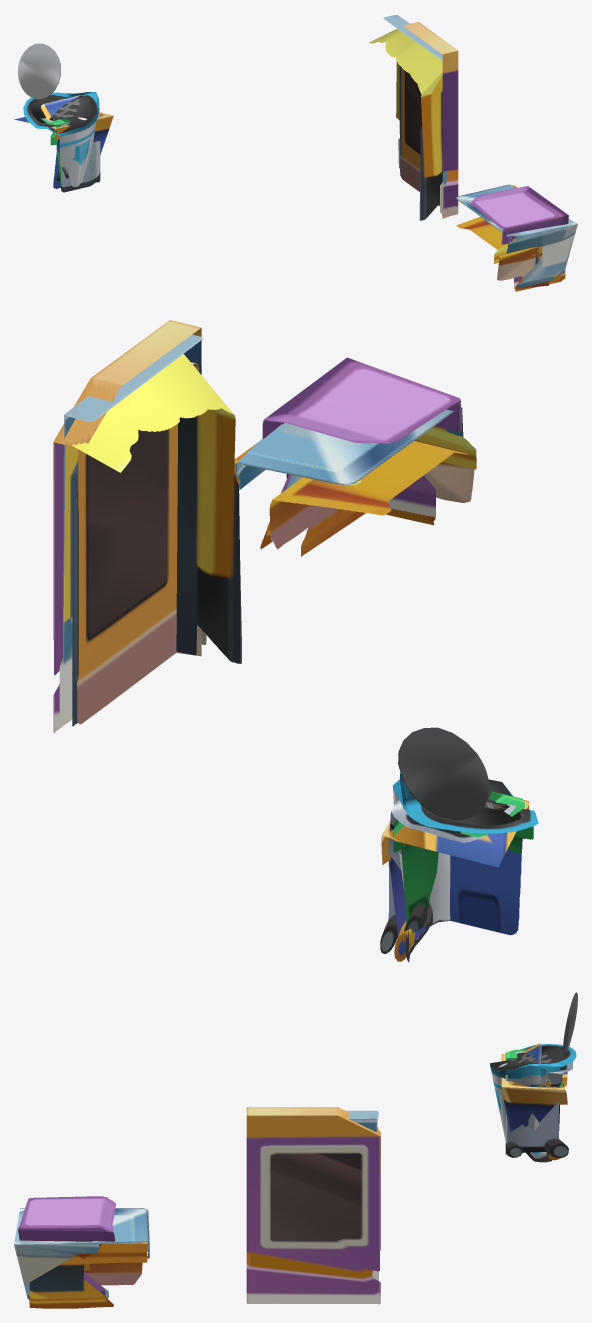
File: lajitong-ludeng2.fbx
The picture shows the model from 3 angles, top to bottom: view 1: azimuth 30°, elevation 25°; view 2: azimuth 150°, elevation 25°; view 3: azimuth 270°, elevation 25°; orthographic projection. The views are drawn at different scales.
Visible parts, largest first — view 1: decoration_20024, decoration_20021, facility_20094_opeen, decoration_20022, decoration_200231, decoration_200232, facility_20094, facility_20091, facility_20093; view 2: decoration_20021, decoration_20024, decoration_200232, decoration_20022, facility_20094_opeen, facility_20091, decoration_200231, facility_20092, facility_20093; view 3: decoration_200231, decoration_200232, decoration_20022, decoration_20024, facility_20091, facility_20094_opeen, facility_20093, decoration_20021, facility_20094.
Boxes of the visible parts, x1,y1,x2,y2 form: decoration_20024: (368, 29, 565, 291); decoration_20021: (400, 67, 549, 289); facility_20094_opeen: (18, 43, 99, 183); decoration_20022: (383, 14, 577, 288); decoration_200231: (400, 22, 458, 217); decoration_200232: (471, 186, 568, 287); facility_20094: (36, 93, 99, 187); facility_20091: (14, 95, 113, 188); facility_20093: (43, 112, 100, 192); decoration_20021: (77, 362, 474, 724); decoration_20024: (63, 354, 476, 726); decoration_200232: (262, 357, 461, 541); decoration_20022: (59, 334, 463, 721); facility_20094_opeen: (398, 727, 538, 952); facility_20091: (381, 799, 529, 961); decoration_200231: (53, 320, 201, 733); facility_20092: (393, 791, 533, 942); facility_20093: (380, 799, 515, 953); decoration_200231: (246, 1107, 380, 1304); decoration_200232: (18, 1196, 115, 1303); decoration_20022: (14, 1110, 378, 1299); decoration_20024: (29, 1127, 378, 1308); facility_20091: (501, 1043, 567, 1160); facility_20094_opeen: (490, 992, 577, 1161); facility_20093: (505, 1051, 573, 1157); decoration_20021: (84, 1262, 142, 1285); facility_20094: (490, 1056, 576, 1162).
Bounding box in the file's own units: 4.22 × 2.06 × 5.55.
